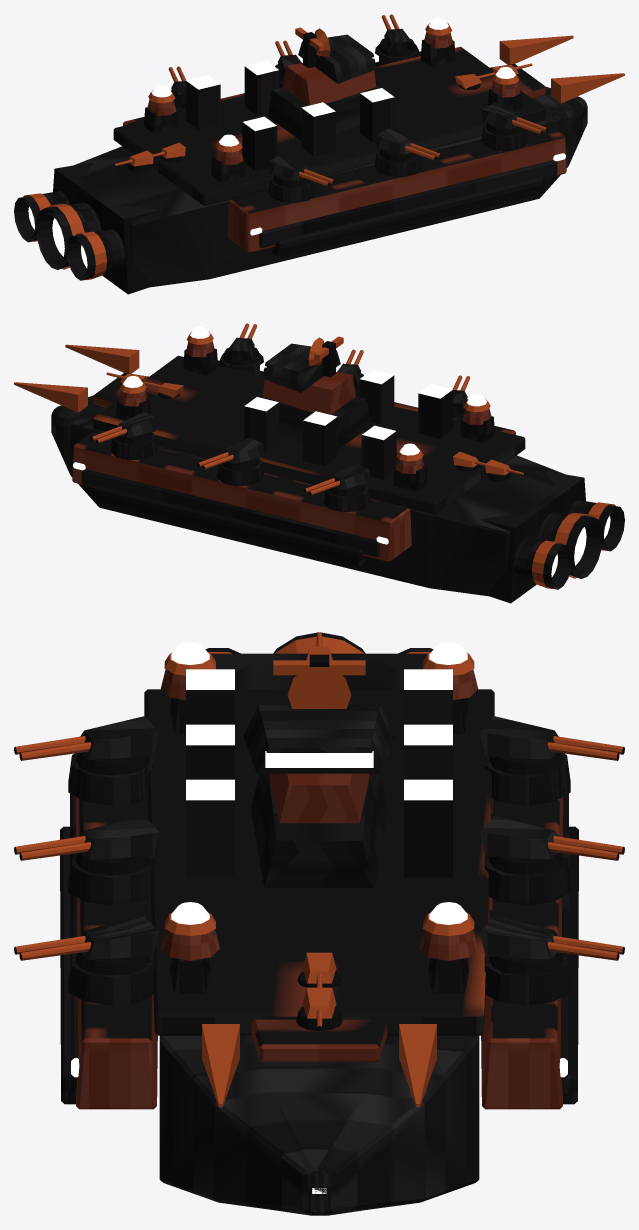
Rendered from cruiser.glb.
3 views of the same model, one above another, from view 1: azimuth 30°, elevation 25°; view 2: azimuth 150°, elevation 25°; view 3: azimuth 270°, elevation 25° (orthographic). The views are drawn at different scales.
Parts seen in each view (by area): view 1: hull_body, engine_block, weapon_turrets, sensor_tower, shield_pylons; view 2: hull_body, engine_block, weapon_turrets, sensor_tower, shield_pylons; view 3: hull_body, weapon_turrets, sensor_tower, shield_pylons, engine_block.
Part boxes in pixels (x1,y1,x2,y2): hull_body: [74, 35, 624, 287]; engine_block: [14, 162, 158, 294]; weapon_turrets: [114, 14, 547, 203]; sensor_tower: [268, 27, 387, 140]; shield_pylons: [144, 18, 522, 183]; hull_body: [14, 344, 564, 596]; engine_block: [480, 471, 624, 603]; weapon_turrets: [91, 323, 524, 512]; sensor_tower: [251, 336, 370, 449]; shield_pylons: [116, 327, 494, 492]; hull_body: [60, 662, 578, 1215]; weapon_turrets: [14, 632, 624, 1030]; sensor_tower: [243, 654, 395, 887]; shield_pylons: [160, 642, 478, 993]; engine_block: [205, 632, 433, 671].
Size of the model in its own units: 42 by 13.64 by 21.12.
1 material, 1 textured.
